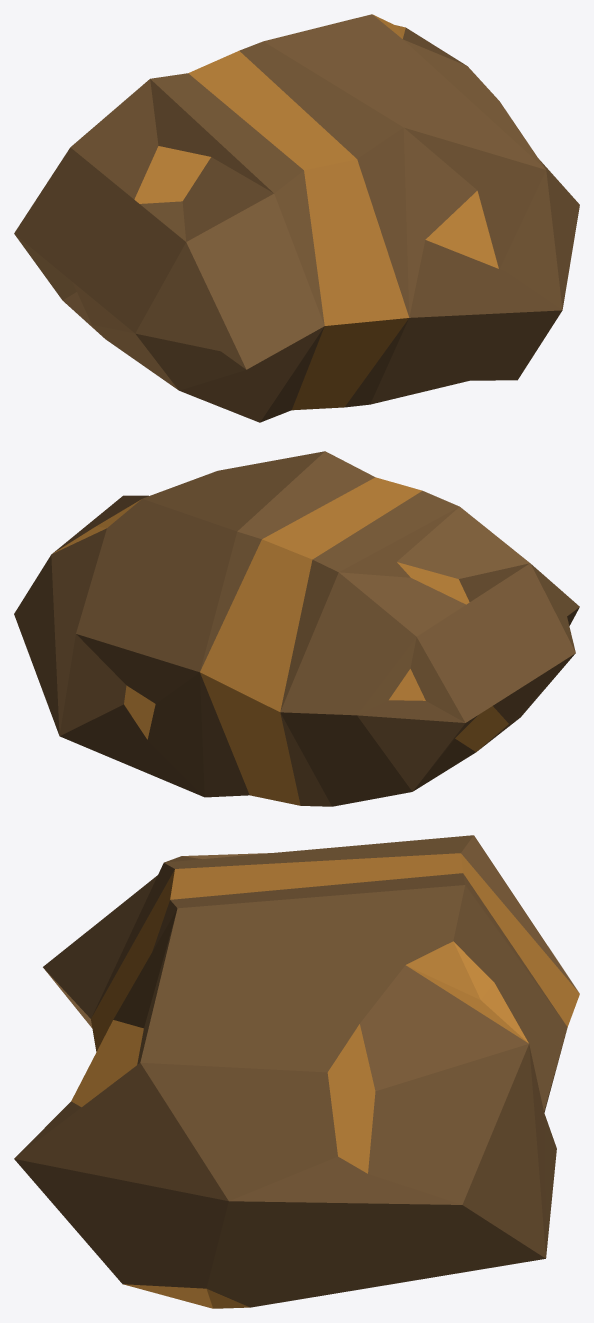
The model's file is OreMined.glb.
3 renders of one model, top to bottom at view 1: azimuth 30°, elevation 25°; view 2: azimuth 150°, elevation 25°; view 3: azimuth 270°, elevation 25°, orthographic. The views are drawn at different scales.
Visible parts, largest first — view 1: Cube.001; view 2: Cube.001; view 3: Cube.001.
Boxes of the visible parts, bbox=[...] form: Cube.001: bbox=[14, 14, 579, 422]; Cube.001: bbox=[14, 451, 579, 806]; Cube.001: bbox=[14, 835, 579, 1308].
Bounding box in the file's own units: 0.2701 × 0.1591 × 0.2236.
